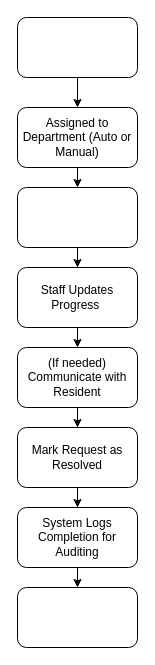
Some shapes in this 155 by 665 pixel diagram are drawn without their labels. The centre of each missing label's shape, as x and y in pixels:
New Request Submitted: point 77,47
Resident Receives Final Notification: point 77,617
Reviewed by Staff: point 77,217
